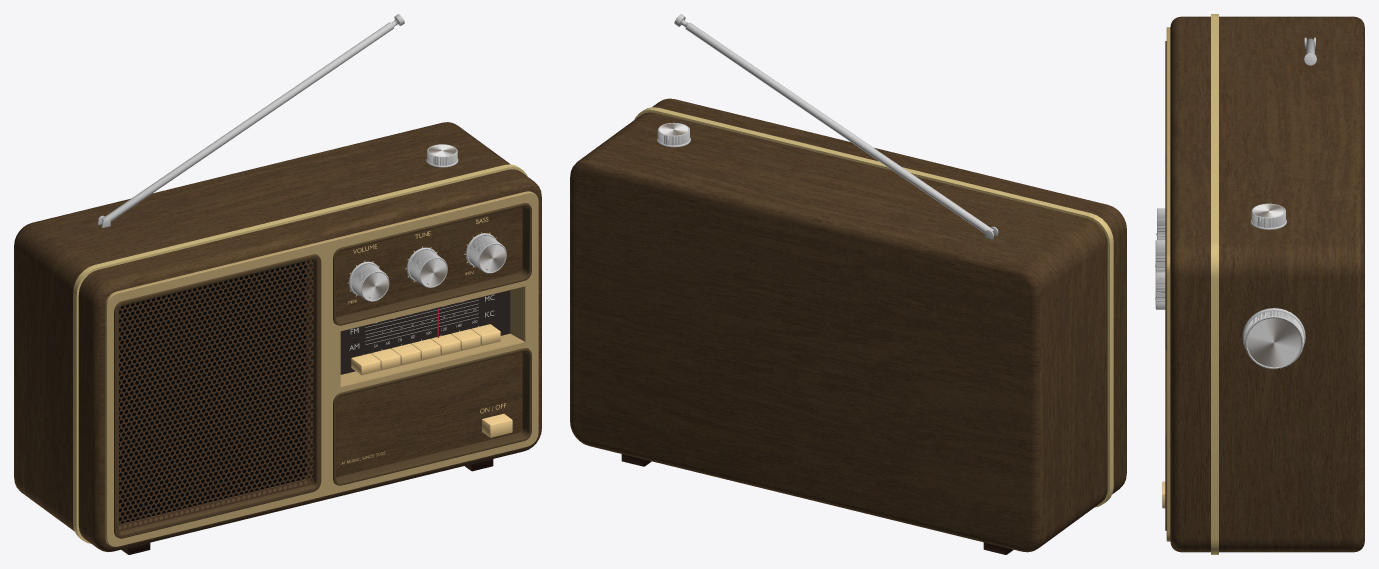
Rendered from radio-1.glb.
The picture shows the model from 3 angles, left to right: view 1: azimuth 30°, elevation 25°; view 2: azimuth 150°, elevation 25°; view 3: azimuth 270°, elevation 25°; orthographic projection. The views are drawn at different scales.
Parts seen in each view (by area): view 1: Radio Box, Speaker Grill, Speaker Backplate, Controls Backplate, Radio Box Frame, Speaker Padding, Tuner Backplate, Rim, Bottom Padding, Controls Padding, Antenna, Tuner Marking Lines; view 2: Radio Box, Rim, Antenna; view 3: Radio Box, Rim, Radio Box Frame, Knob_5 Front, Knob_5, Knob_4, Knob_3, Controls Padding, Bottom Padding, Knob_2, Knob_4 Front, Knob_5 Ring (+1 smaller).
Part boxes in pixels (bbox=[...]): Radio Box: bbox=[14, 122, 541, 551]; Speaker Grill: bbox=[119, 260, 313, 531]; Speaker Backplate: bbox=[119, 261, 306, 523]; Controls Backplate: bbox=[336, 206, 522, 477]; Radio Box Frame: bbox=[105, 191, 538, 546]; Speaker Padding: bbox=[114, 254, 321, 538]; Tuner Backplate: bbox=[340, 290, 510, 374]; Rim: bbox=[73, 164, 527, 543]; Bottom Padding: bbox=[333, 348, 531, 485]; Controls Padding: bbox=[333, 203, 531, 325]; Antenna: bbox=[101, 14, 404, 221]; Tuner Marking Lines: bbox=[365, 300, 478, 344]; Radio Box: bbox=[570, 98, 1126, 552]; Rim: bbox=[634, 107, 1113, 507]; Antenna: bbox=[674, 14, 994, 233]; Radio Box: bbox=[1170, 16, 1364, 552]; Rim: bbox=[1211, 14, 1218, 554]; Radio Box Frame: bbox=[1166, 27, 1170, 541]; Knob_5 Front: bbox=[1247, 318, 1301, 367]; Knob_5: bbox=[1244, 311, 1303, 368]; Knob_4: bbox=[1251, 203, 1285, 227]; Knob_3: bbox=[1155, 272, 1165, 309]; Controls Padding: bbox=[1165, 161, 1166, 350]; Bottom Padding: bbox=[1165, 350, 1166, 530]; Knob_2: bbox=[1155, 240, 1165, 272]; Knob_4 Front: bbox=[1253, 204, 1284, 217]; Knob_5 Ring: bbox=[1242, 308, 1305, 348].
Bounding box in the file's own units: 3.07 × 2.68 × 1.07.
13 materials, 2 textured.
